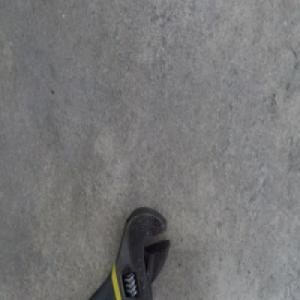AdjustableWrench: (90, 207, 171, 299)
